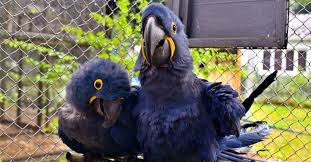guacamaya: (132, 1, 280, 162), (56, 53, 138, 160)
